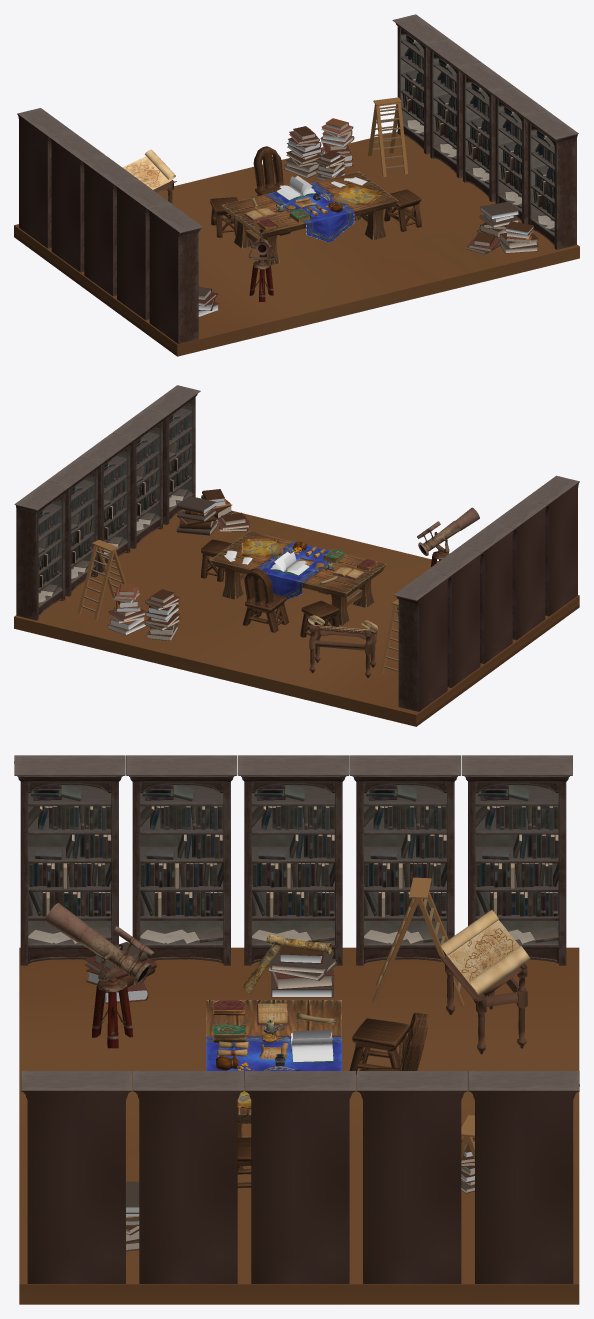
The model's file is scholar.fbx.
3 renders of one model, top to bottom at view 1: azimuth 30°, elevation 25°; view 2: azimuth 150°, elevation 25°; view 3: azimuth 270°, elevation 25°, orthographic. The views are drawn at different scales.
Parts seen in each view (by area): view 1: Old_Dusty_Bookshelf_1, Cube.002, Object_7.003, defaultMaterial.027, Object_3, chair_lp_chairs_0, Plane, Object_3.002, barchair_lp_chairs_0.001, barchair_lp_chairs_0, Object_2, defaultMaterial.108; view 2: Old_Dusty_Bookshelf_1, Cube.002, Object_7.003, defaultMaterial.027, chair_lp_chairs_0, Object_4.001, Object_3.002, Object_3, barchair_lp_chairs_0, barchair_lp_chairs_0.001; view 3: Old_Dusty_Bookshelf_1, Cube.002, Object_7.003, Object_3.002, Plane002.001, Plane, Object_4.001, barchair_lp_chairs_0, Object_3.001, defaultMaterial.108, chair_lp_chairs_0, defaultMaterial.027.
Boxes of the visible parts, box(x1,y1,x2,y2) form: Old_Dusty_Bookshelf_1: box(17, 14, 578, 344); Cube.002: box(14, 131, 579, 356); Object_7.003: box(222, 171, 398, 264); defaultMaterial.027: box(467, 201, 538, 254); Object_3: box(368, 97, 408, 176); chair_lp_chairs_0: box(253, 146, 284, 196); Plane: box(122, 149, 175, 189); Object_3.002: box(248, 228, 274, 301); barchair_lp_chairs_0.001: box(384, 189, 421, 231); barchair_lp_chairs_0: box(210, 197, 238, 237); Object_2: box(372, 106, 404, 168); defaultMaterial.108: box(198, 286, 219, 316); Old_Dusty_Bookshelf_1: box(14, 385, 579, 711); Cube.002: box(14, 509, 579, 726); Object_7.003: box(210, 531, 386, 625); defaultMaterial.027: box(176, 489, 249, 535); chair_lp_chairs_0: box(242, 568, 288, 632); Object_4.001: box(309, 625, 377, 677); Object_3.002: box(417, 507, 479, 566); Object_3: box(77, 540, 126, 620); barchair_lp_chairs_0: box(300, 600, 339, 637); barchair_lp_chairs_0.001: box(201, 539, 231, 581); Old_Dusty_Bookshelf_1: box(14, 755, 579, 1283); Cube.002: box(19, 947, 579, 1304); Object_7.003: box(206, 1000, 341, 1168); Object_3.002: box(45, 903, 154, 1048); Plane002.001: box(243, 934, 337, 997); Plane: box(440, 910, 530, 994); Object_4.001: box(438, 955, 527, 1054); barchair_lp_chairs_0: box(349, 1018, 409, 1075); Object_3.001: box(372, 877, 465, 1006); defaultMaterial.108: box(84, 942, 156, 1003); chair_lp_chairs_0: box(359, 1012, 427, 1070); defaultMaterial.027: box(126, 1181, 139, 1251).
Bounding box in the file's own units: 77.48 × 22.92 × 55.04.
40 materials, 14 textured.
